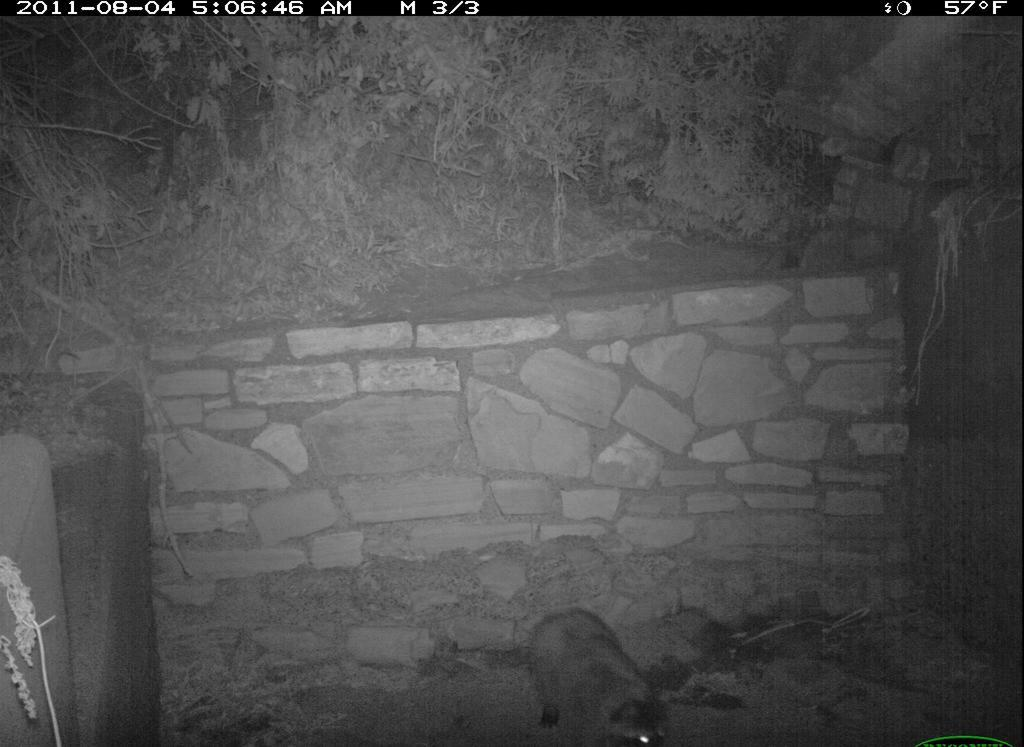raccoon: (479, 603, 681, 747)
